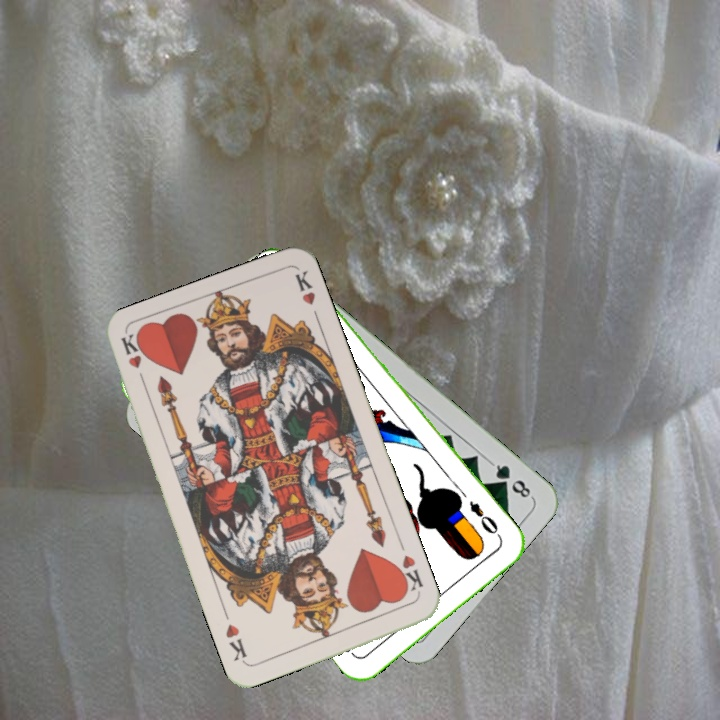EO: (465, 497, 504, 541)
G8: (486, 458, 535, 501)
HK: (117, 331, 149, 390), (391, 551, 426, 598)
